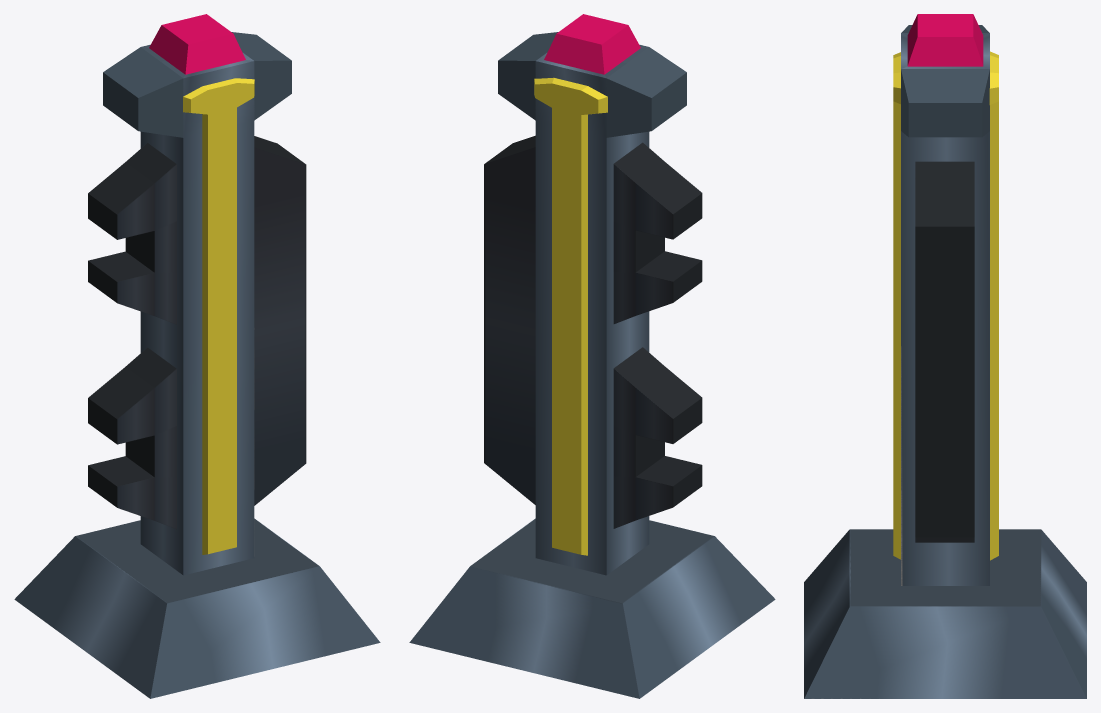
Rendered from Obstaculo2_JumpLD (1).fbx.
The picture shows the model from 3 angles, left to right: view 1: azimuth 30°, elevation 25°; view 2: azimuth 150°, elevation 25°; view 3: azimuth 270°, elevation 25°; orthographic projection. The views are drawn at different scales.
Visible parts, largest first — view 1: Obstaculo2_JumpLD; view 2: Obstaculo2_JumpLD; view 3: Obstaculo2_JumpLD.
Boxes of the visible parts, box(x1,y1,x2,y2) form: Obstaculo2_JumpLD: box(14, 14, 380, 698); Obstaculo2_JumpLD: box(409, 14, 775, 698); Obstaculo2_JumpLD: box(804, 14, 1086, 698).
Size of the model in its own units: 2.72 by 6.67 by 2.78.
